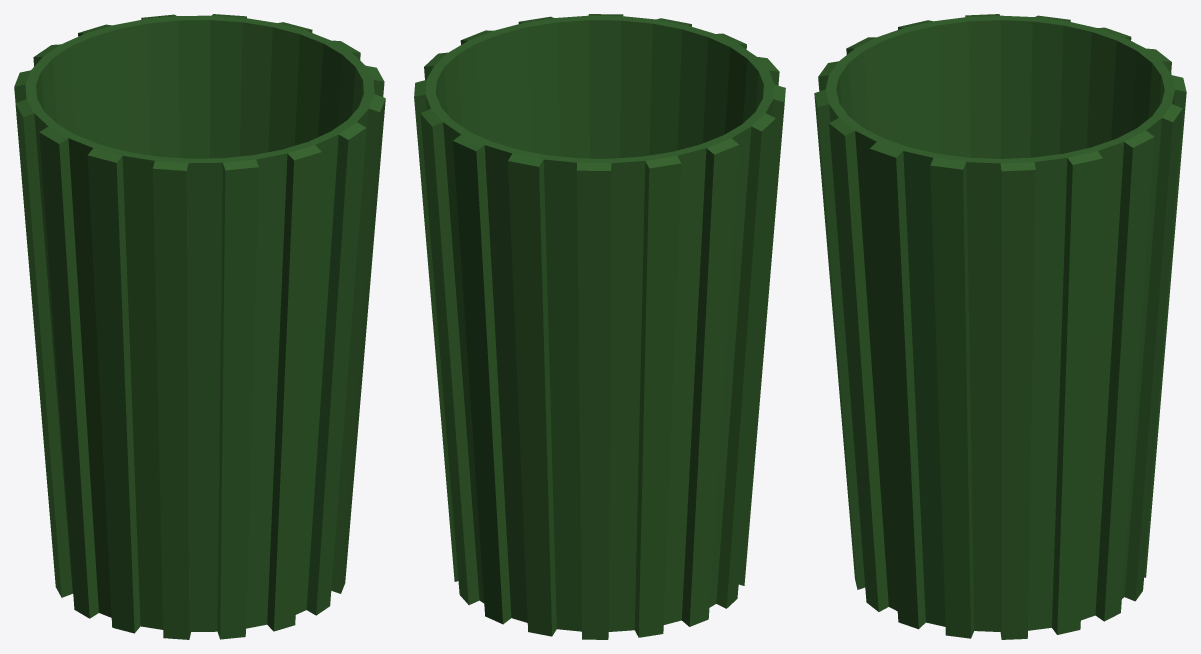
File: Trash.fbx
3 views of the same model, side by side, from view 1: azimuth 30°, elevation 25°; view 2: azimuth 150°, elevation 25°; view 3: azimuth 270°, elevation 25° (orthographic).
Parts seen in each view (by area): view 1: Cylinder.002; view 2: Cylinder.002; view 3: Cylinder.002.
Boxes of the visible parts, x1,y1,x2,y2 form: Cylinder.002: [14, 14, 385, 639]; Cylinder.002: [414, 14, 785, 639]; Cylinder.002: [814, 14, 1186, 639].
Bounding box in the file's own units: 106 × 154 × 106.
